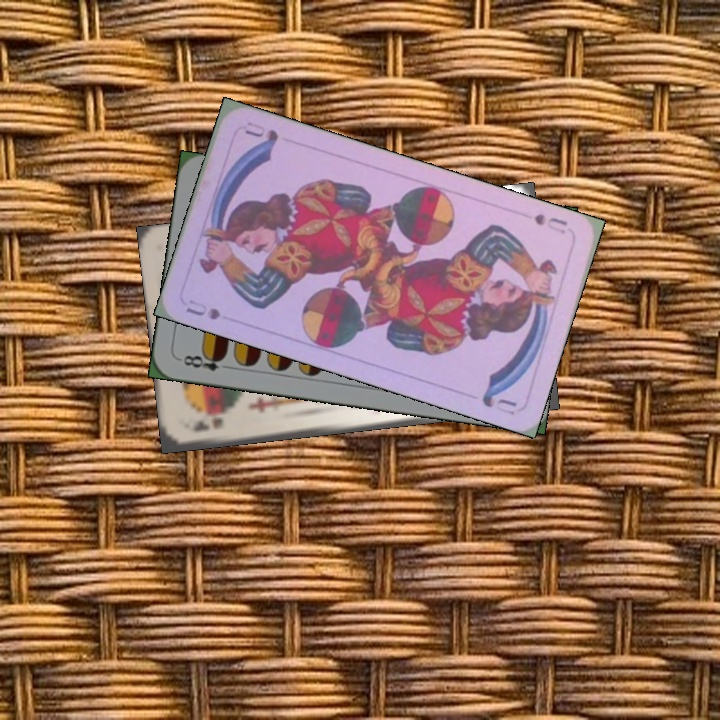E8: (179, 349, 235, 374)
SK: (188, 414, 225, 435)
SU: (530, 209, 570, 237), (182, 296, 223, 323)
